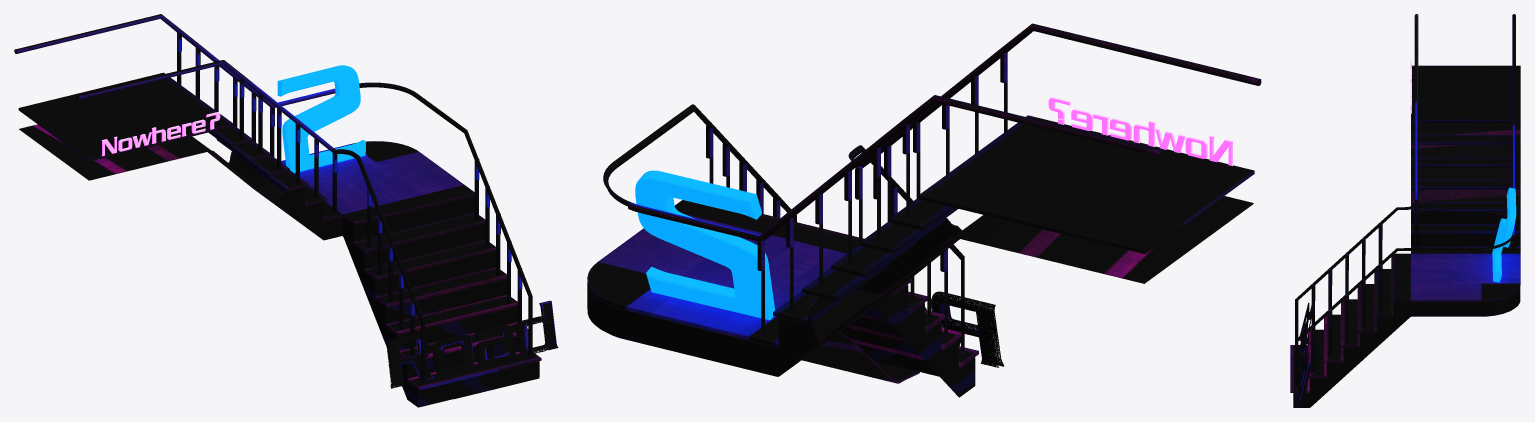
The model's file is Stairs.fbx.
3 renders of one model, left to right at view 1: azimuth 30°, elevation 25°; view 2: azimuth 150°, elevation 25°; view 3: azimuth 270°, elevation 25°, orthographic. The views are drawn at different scales.
Visible parts, largest first — view 1: Cube.002; view 2: Cube.002; view 3: Cube.002.
Part boxes in pixels (x1,y1,x2,y2): Cube.002: [14, 14, 558, 407]; Cube.002: [587, 23, 1261, 397]; Cube.002: [1290, 14, 1520, 407].
Size of the model in its own units: 583 by 437 by 367.
Materials: 6 (4 with a texture image).
